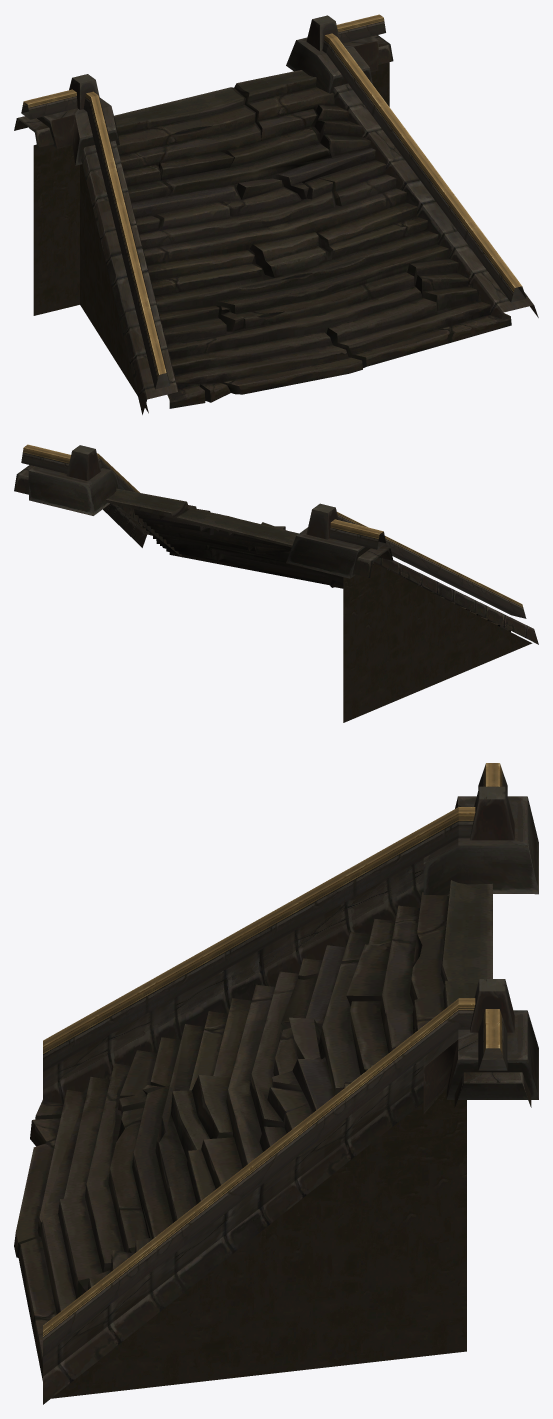
File: fortress_wall_stair_02.fbx
The picture shows the model from 3 angles, top to bottom: view 1: azimuth 30°, elevation 25°; view 2: azimuth 150°, elevation 25°; view 3: azimuth 270°, elevation 25°; orthographic projection. The views are drawn at different scales.
Parts seen in each view (by area): view 1: fortress_wall_stair_02-0; view 2: fortress_wall_stair_02-0; view 3: fortress_wall_stair_02-0.
Part boxes in pixels (x1=…): fortress_wall_stair_02-0: x1=14, y1=14, x2=538, y2=414; fortress_wall_stair_02-0: x1=14, y1=444, x2=538, y2=722; fortress_wall_stair_02-0: x1=14, y1=763, x2=538, y2=1404.
Size of the model in its own units: 13.36 by 7.01 by 9.34.
